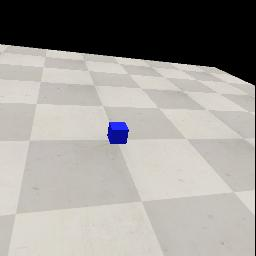box: (107, 122, 129, 144)
